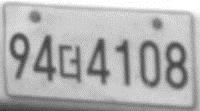0: (138, 39, 162, 88)
1: (111, 38, 136, 86)
4: (30, 33, 56, 81), (85, 37, 111, 85)
8: (164, 40, 188, 89)
9: (8, 31, 31, 81)
더: (57, 43, 82, 83)
